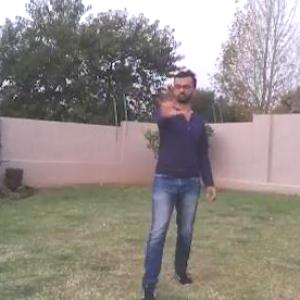follow_hand: (154, 80, 190, 120)
